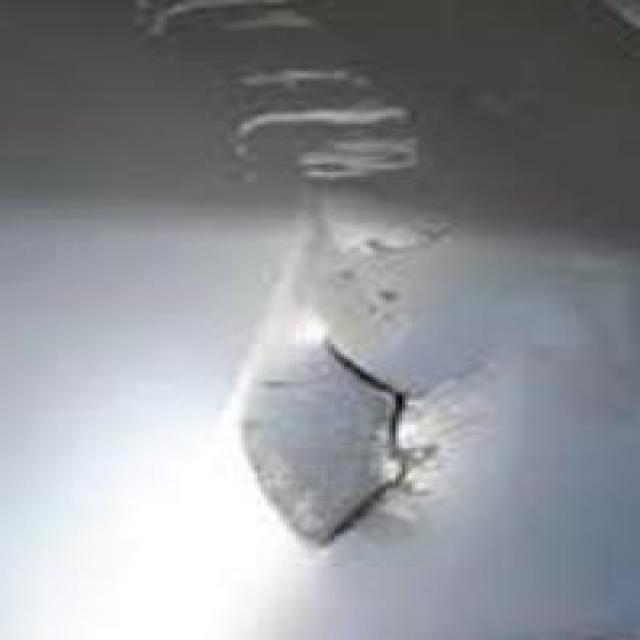scratch: (79, 2, 472, 238)
